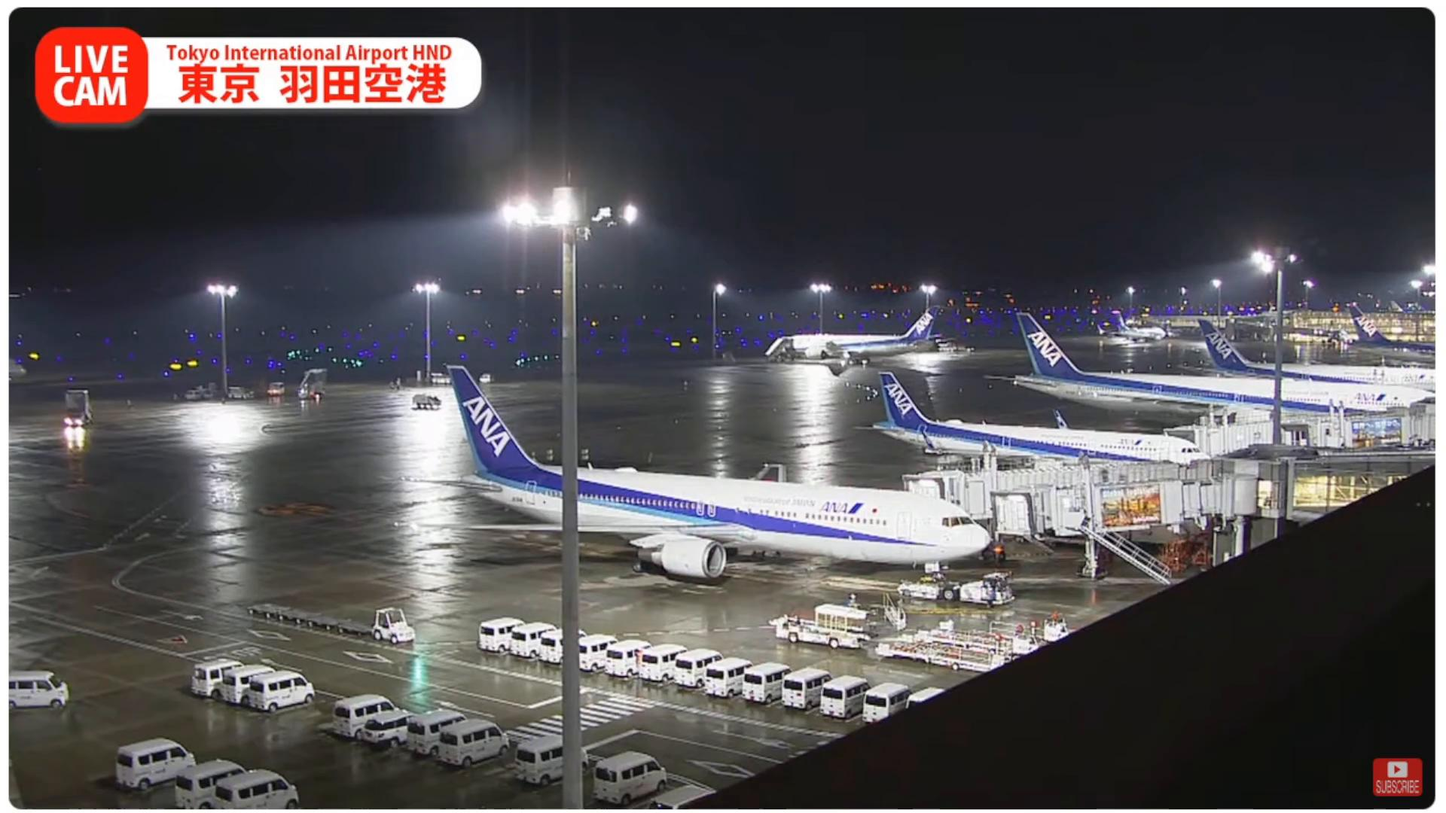Aerobridge: (898, 455, 1260, 521), (994, 480, 1259, 540)
Airplane: (402, 364, 997, 584)
Dolly: (244, 599, 370, 638)
JCPL: (876, 636, 1006, 671), (918, 626, 1038, 654)
Skyloader: (772, 599, 875, 654)
Tow Tug: (894, 571, 1022, 610)
Tractor: (369, 601, 418, 646)
Window: (1283, 450, 1439, 526)
